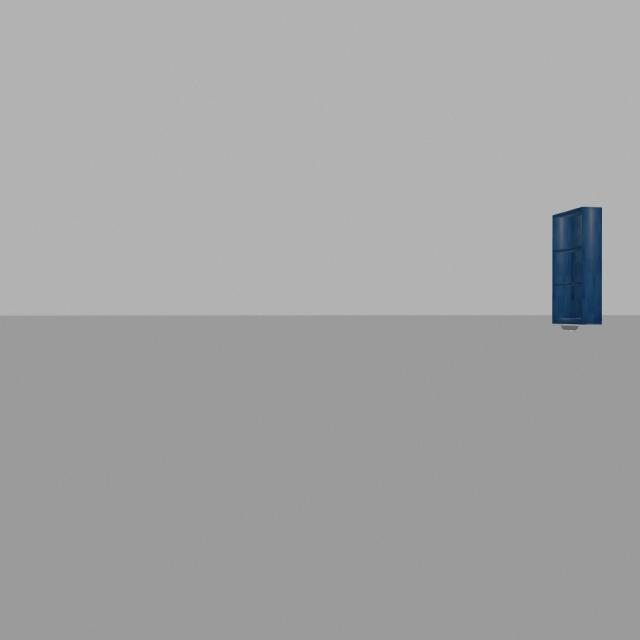bowl: (551, 324, 586, 329)
shelf: (550, 196, 618, 325)
